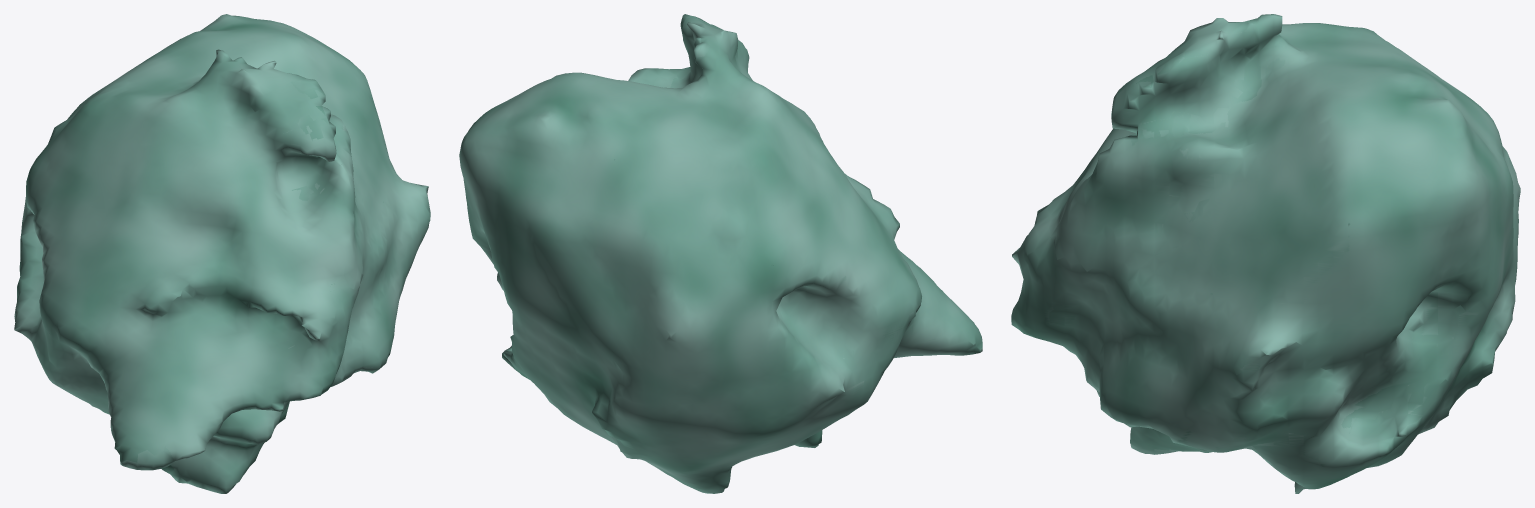
File: Meteor_003.glb
The picture shows the model from 3 angles, left to right: view 1: azimuth 30°, elevation 25°; view 2: azimuth 150°, elevation 25°; view 3: azimuth 270°, elevation 25°; orthographic projection. The views are drawn at different scales.
Visible parts, largest first — view 1: _003; view 2: _003; view 3: _003.
Part boxes in pixels (bbox=[...]): _003: bbox=[14, 14, 430, 493]; _003: bbox=[459, 14, 982, 493]; _003: bbox=[1011, 14, 1520, 493].
Size of the model in its own units: 4.51 by 4.53 by 4.26.
Materials: 1 (1 with a texture image).
